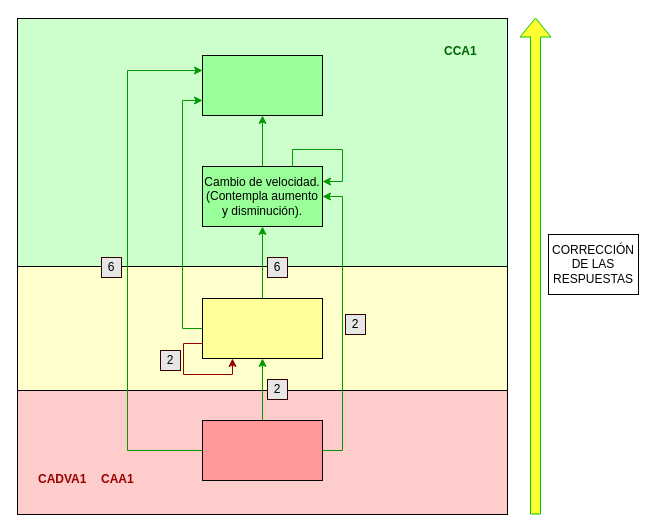
Image size: 656x532. Some labels were removed from this diagram. Here are the shapes that lost their labels. From the top down, the centre of each, then its label:
At (x=262, y=85): "Ritmo de cambio de velocidad. Δv / Δt.".
At (x=262, y=328): "Aumento de velocidad.".
At (x=262, y=450): "Confunde con velocidad.".
